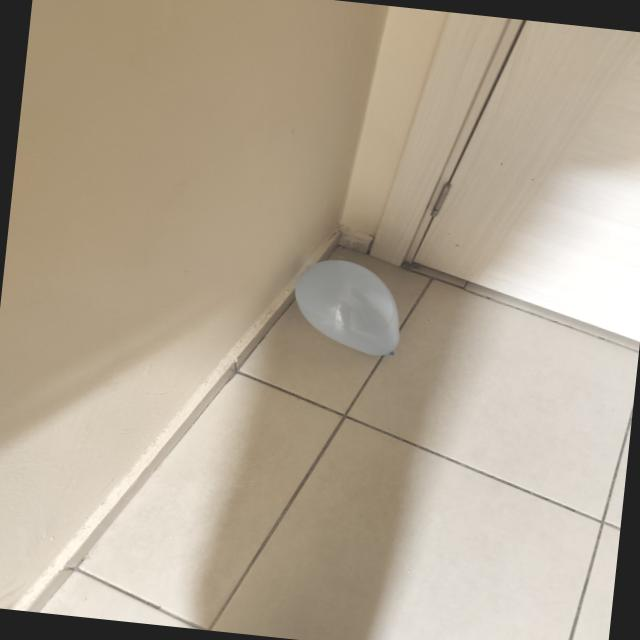balloon: (295, 260, 398, 355)
